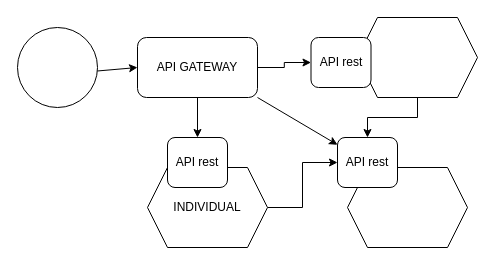
Some shapes in this 495 by 265 pixel diagram are drawn without their labels. The box of each missing label's shape, as (x1, y1, x2, y2) in pixels:
AUTENTICACION: (346, 166, 468, 248)
GENERAL: (356, 16, 478, 98)
WEB COMPONENT (Client Request): (16, 26, 98, 108)
